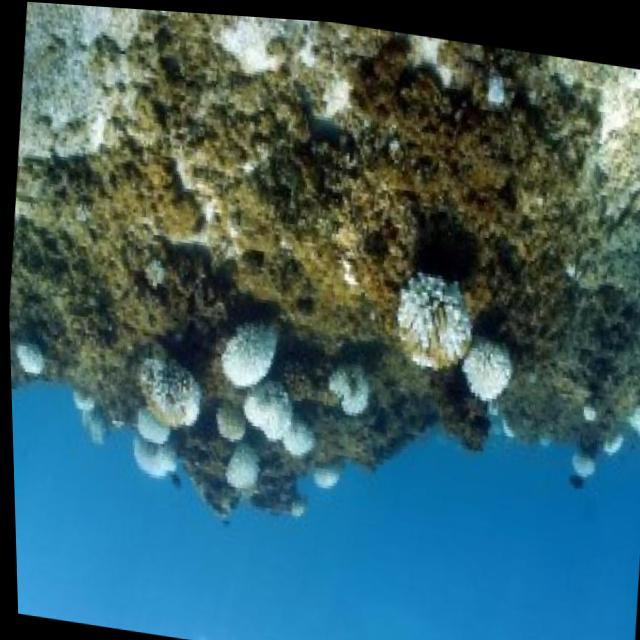Bleached Coral: (199, 307, 324, 505), (95, 328, 206, 498), (401, 258, 478, 375), (560, 386, 640, 485), (315, 344, 382, 454), (459, 326, 520, 415), (8, 325, 52, 389)
